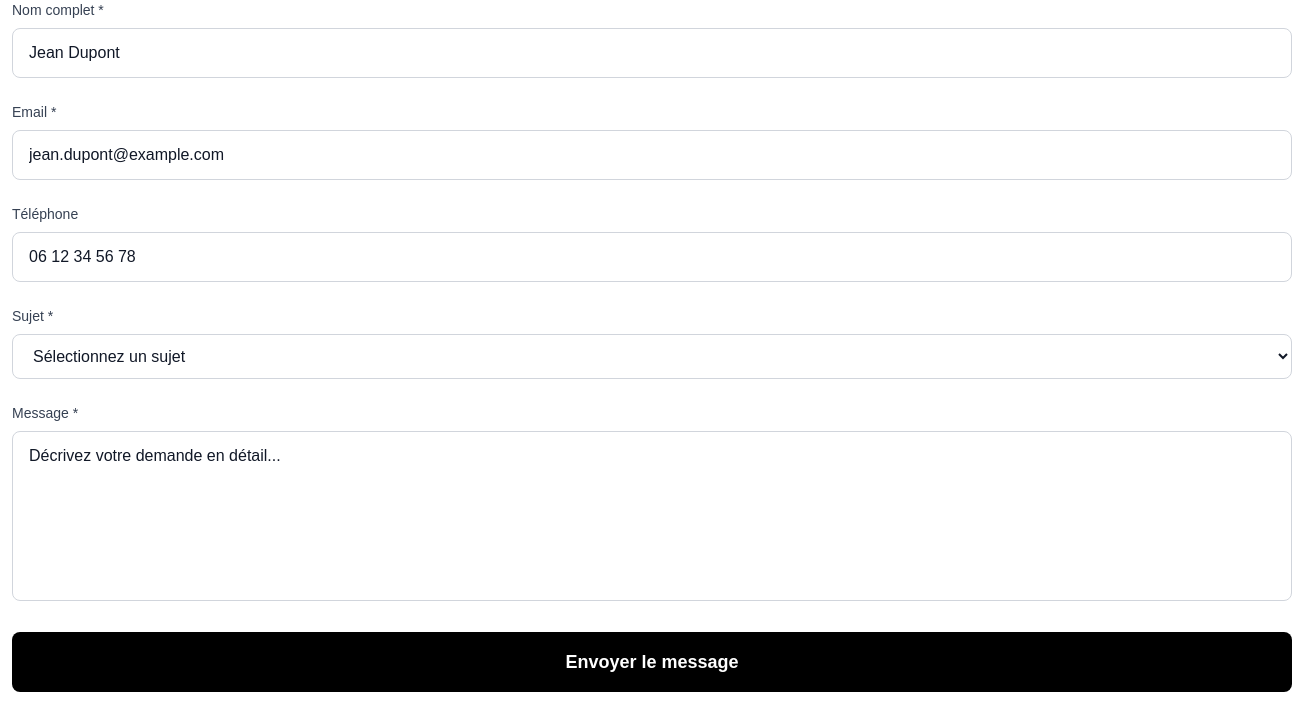
Test case: ContactForm Component › should show error message on failed submission
In the field labelled "Nom complet *": x=652, y=53 [12,28,1292,78], type "John Doe"
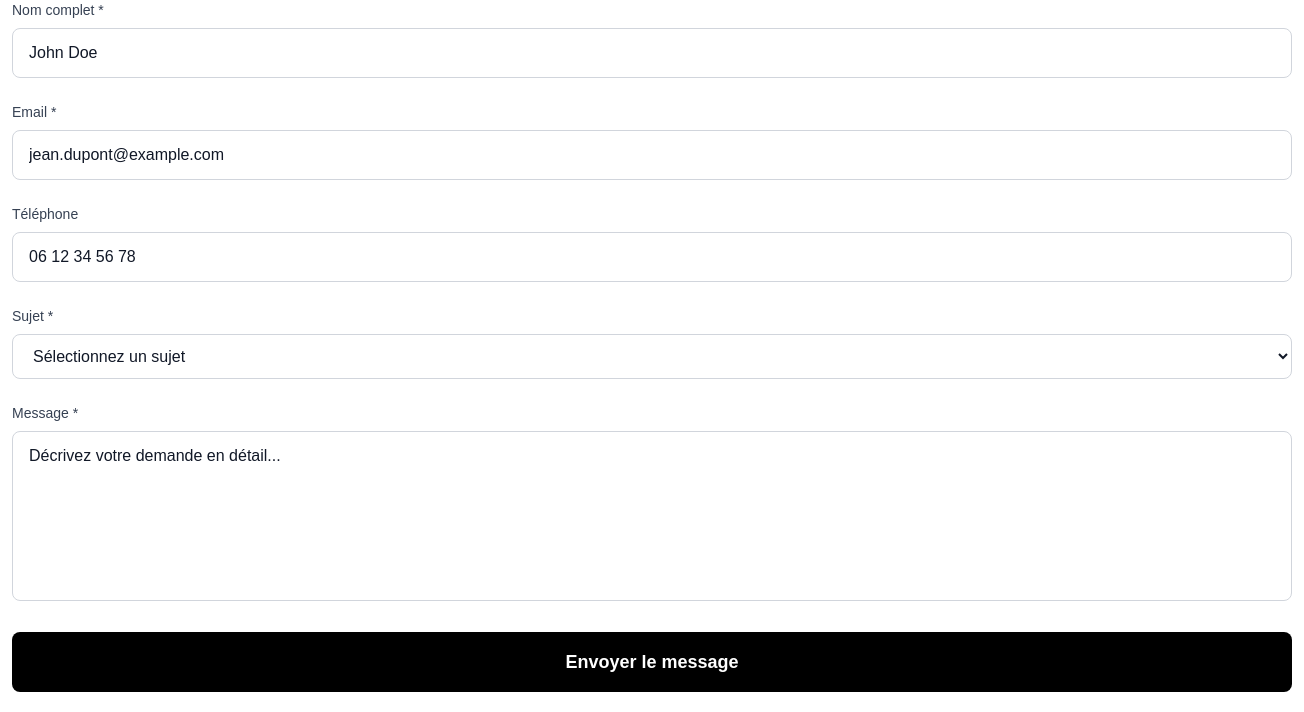
In the field labelled "Email *": x=652, y=155 [12,130,1292,180], type "john@example.com"
(page scrolled)
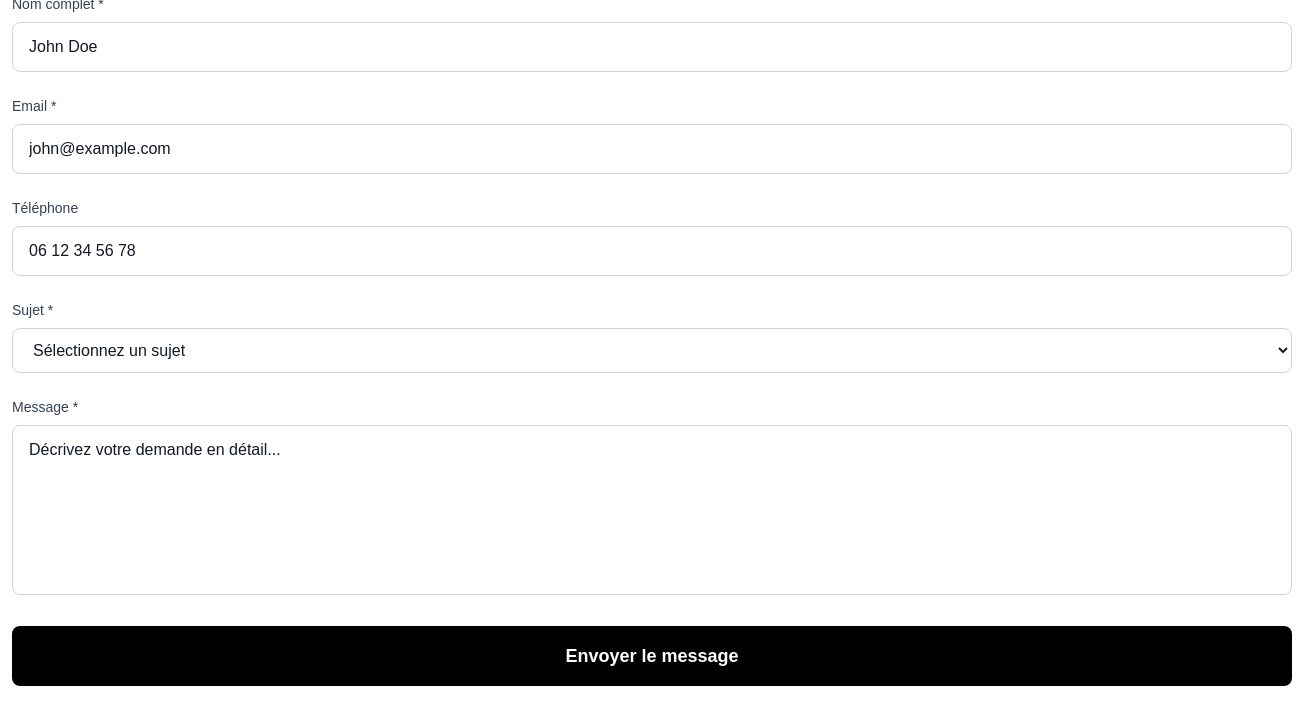
Submit the form labelled "Nom complet"
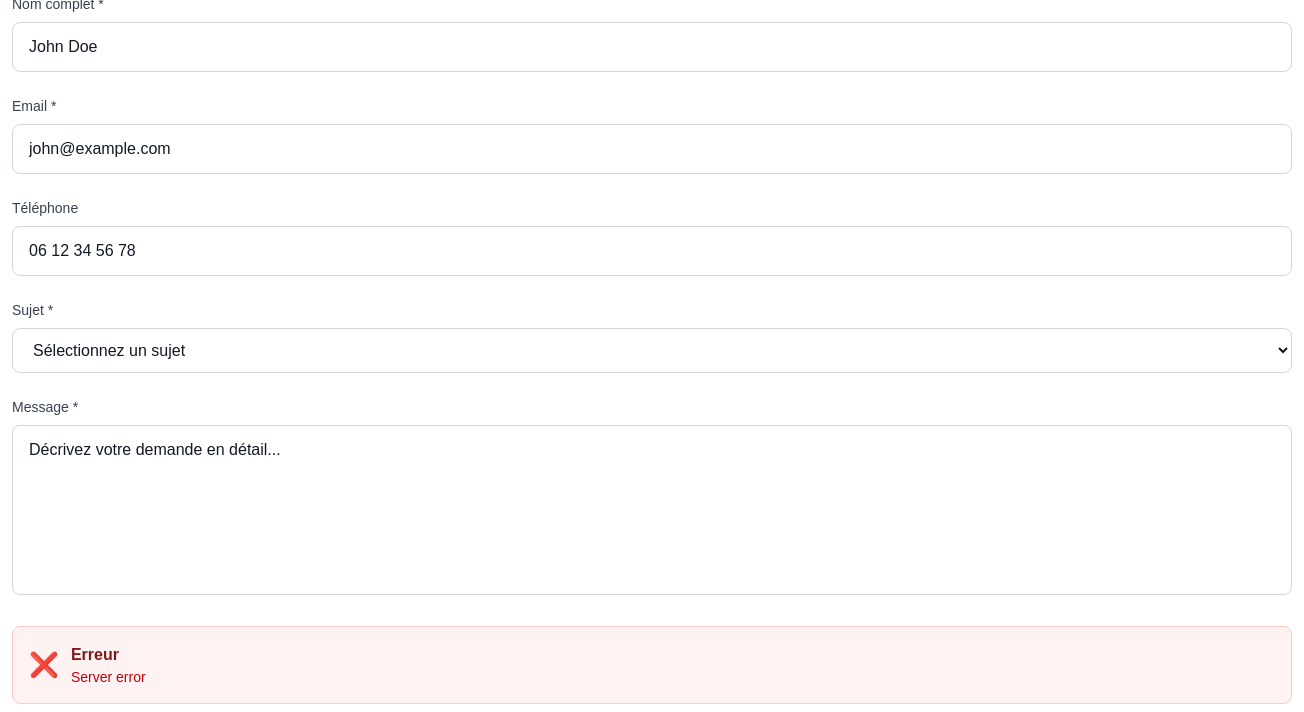
Result: the text "Server error" is shown at [71,667,146,687]
